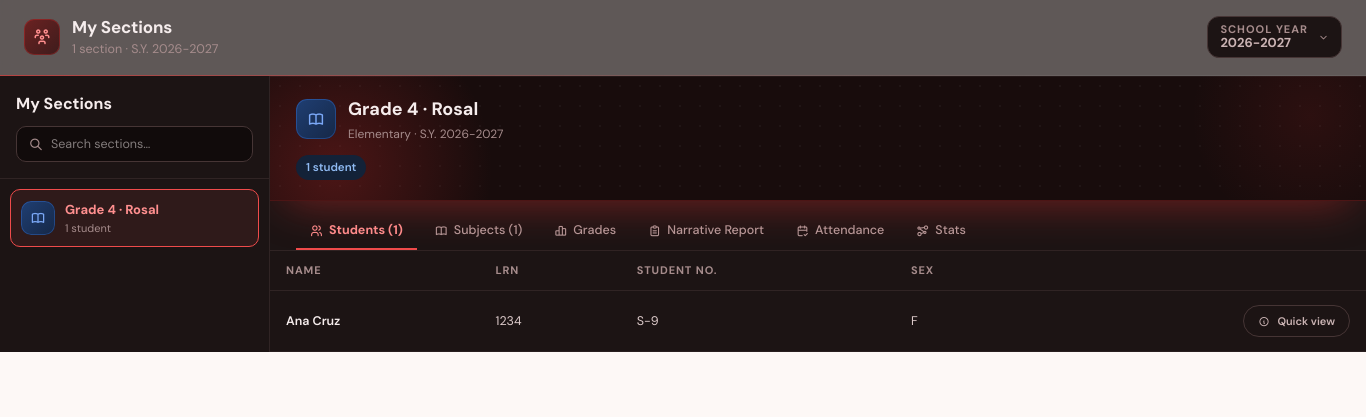
Test: TeacherSectionsPage — dark mode › shows the narrative cross-tab
Click the button "Narrative Report" at (706, 231), box [634, 213, 778, 250]
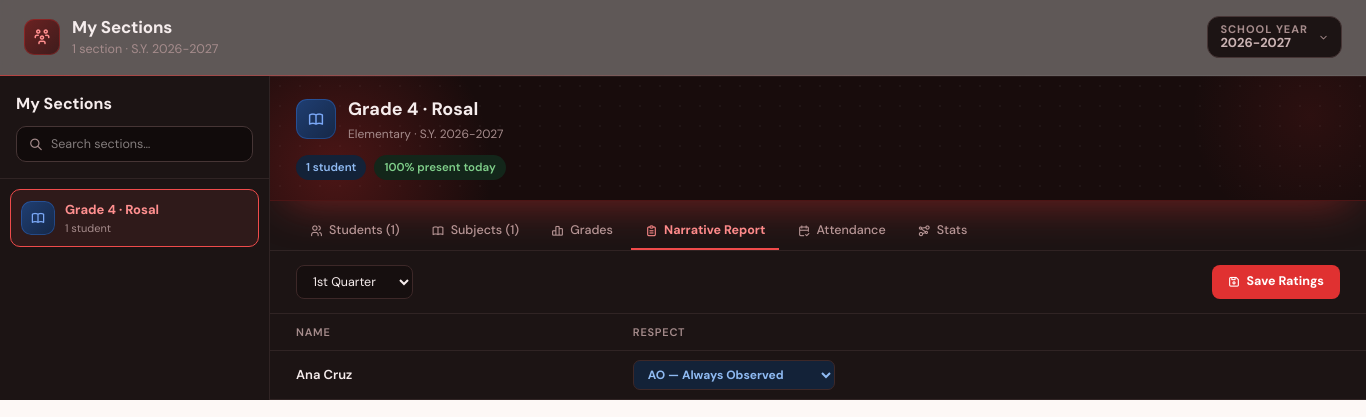
Now the column heading "Respect" is shown, box [617, 314, 1365, 350]
Now the button "Save Ratings" is shown, box [1212, 264, 1340, 298]
